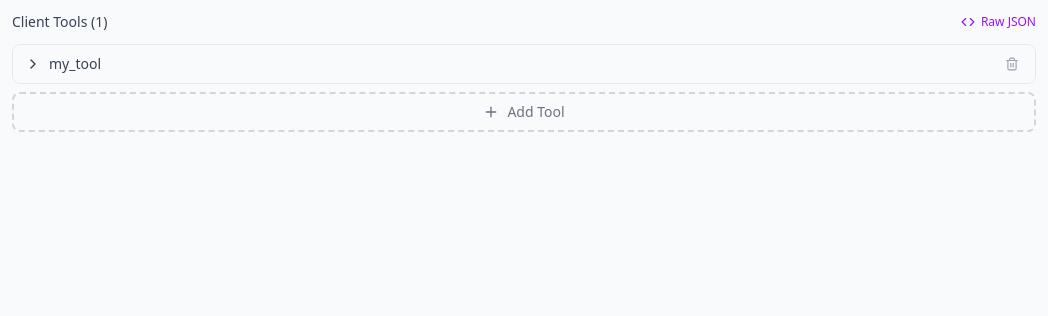
it: ToolBuilder › renders parameter table when tool has parameters
Click the button "my_tool". click: (63, 64)
box: [25,54,101,74]
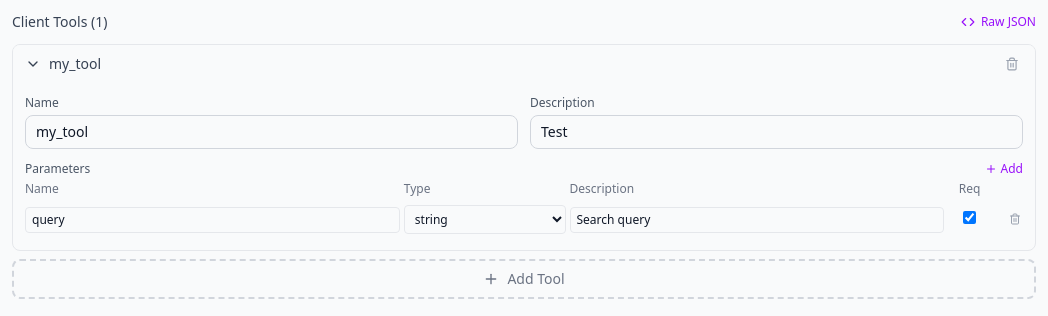
Check: the 3rd field showing "query" is shown, box [25,206,400,232]
Check: the 4th field showing "Search query" is shown, box [570,206,944,232]
